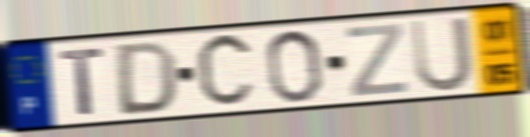C: (193, 29, 258, 114)
D: (115, 38, 180, 118)
O: (263, 26, 325, 106)
T: (57, 45, 107, 118)
U: (408, 14, 476, 95)
Z: (344, 21, 409, 99)
